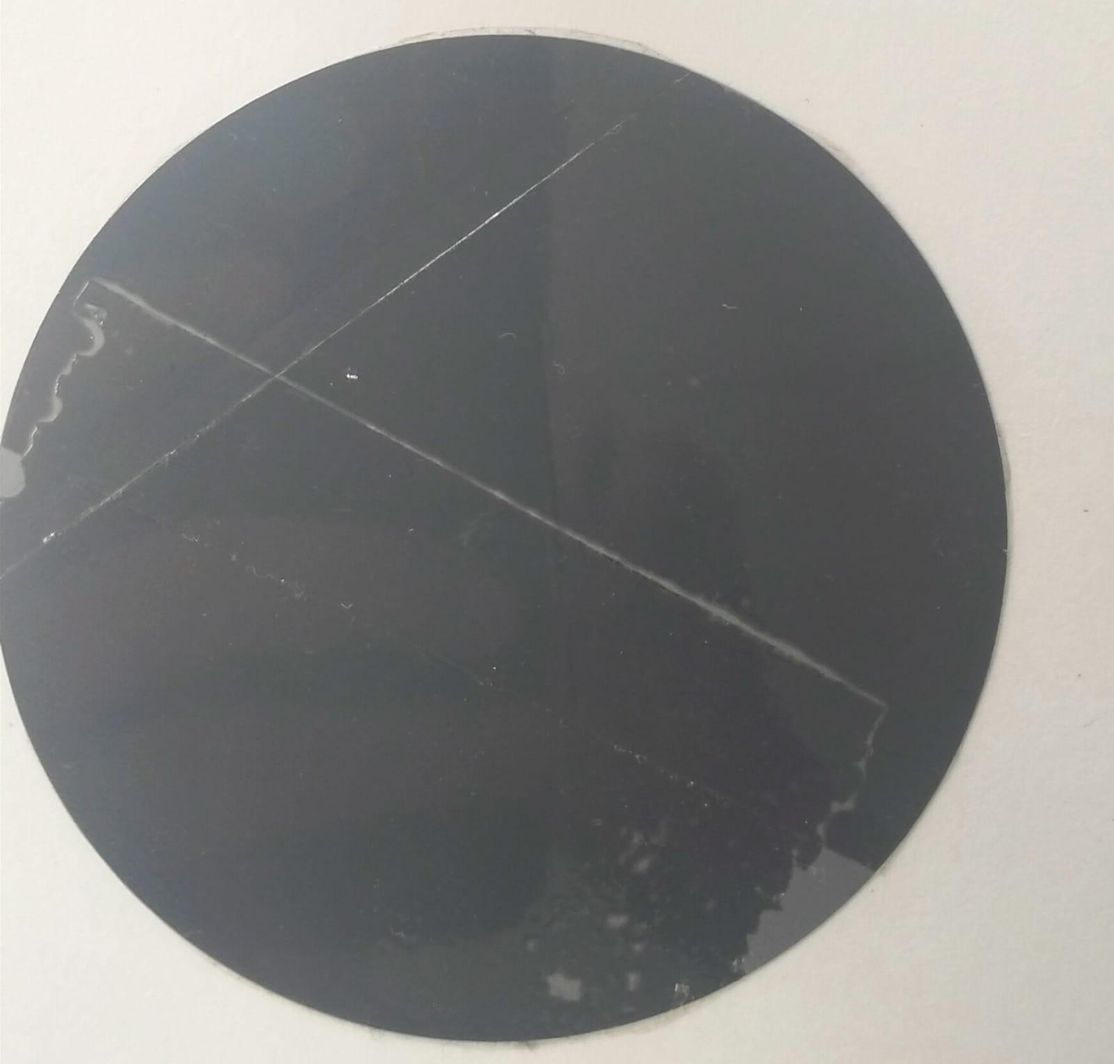crack: (0, 63, 699, 589), (79, 262, 888, 707)
scratch: (613, 820, 668, 886), (534, 959, 597, 1016), (594, 904, 634, 943), (617, 959, 648, 1000)
